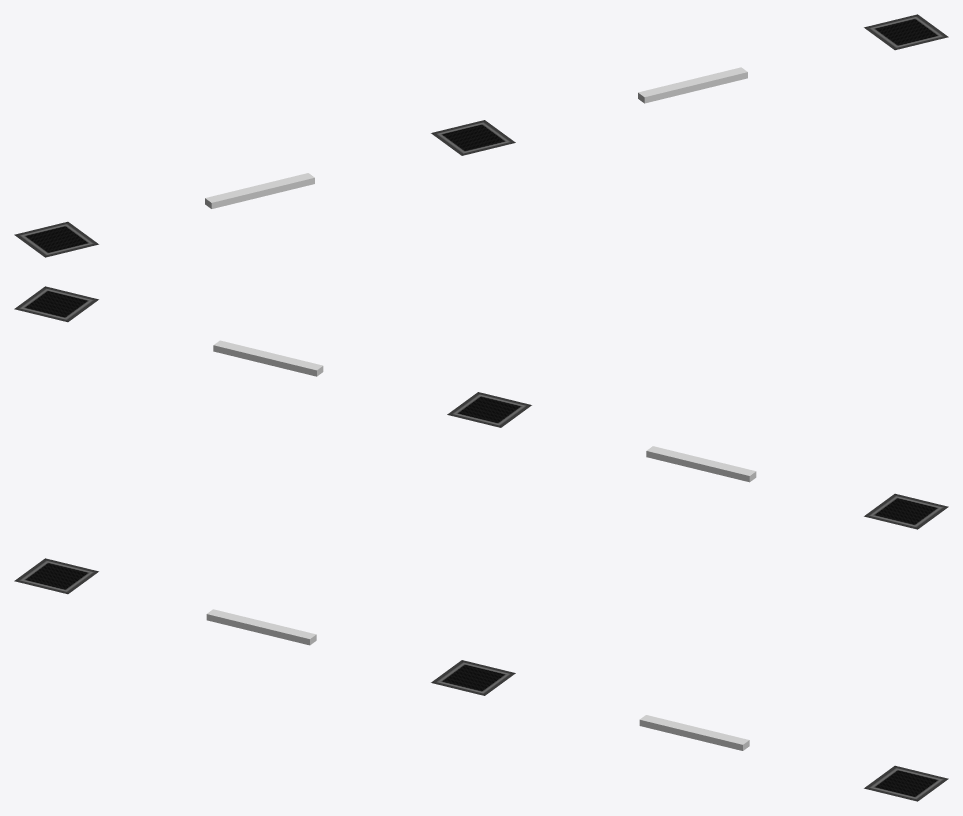
File: TargetCeilingDetail.fbx
3 renders of one model, top to bottom at view 1: azimuth 30°, elevation 25°; view 2: azimuth 150°, elevation 25°; view 3: azimuth 330°, elevation 25°, orthographic.
Visible parts, largest first — view 1: TargetApartment.001, TargetApartment.002, TargetApartment.003, Light.004, Light.005; view 2: TargetApartment.001, TargetApartment.002, TargetApartment.003, Light.005, Light.004; view 3: TargetApartment.001, TargetApartment.002, TargetApartment.003, Light.004, Light.005.
Boxes of the visible parts, x1,y1,x2,y2 form: TargetApartment.001: (14,221,98,257); TargetApartment.002: (431,120,515,155); TargetApartment.003: (864,14,948,50); Light.004: (205,173,314,208); Light.005: (638,67,747,103); TargetApartment.001: (864,493,948,529); TargetApartment.002: (447,392,531,427); TargetApartment.003: (14,286,98,322); Light.005: (213,340,323,376); Light.004: (646,446,756,482); TargetApartment.001: (14,558,98,594); TargetApartment.002: (431,660,515,695); TargetApartment.003: (864,765,948,801); Light.004: (206,609,316,645); Light.005: (639,715,749,750).
Size of the model in its own units: 1670 by 11.09 by 100.
2 materials, 1 textured.
